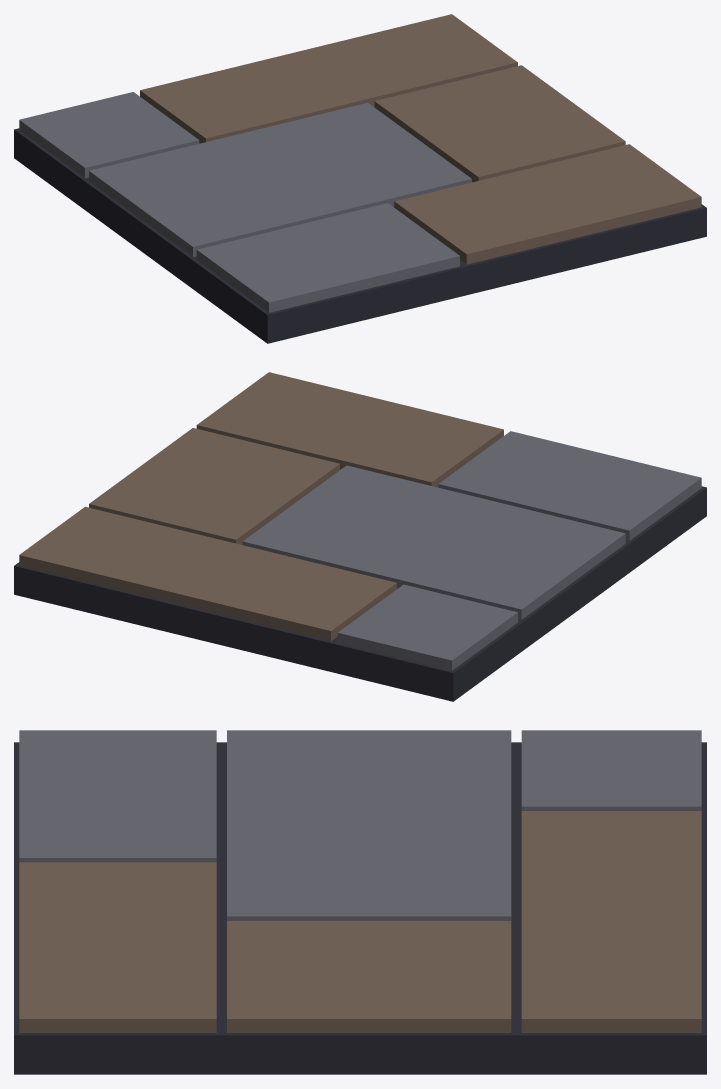
File: floor_flagstone_slabs.fbx
3 renders of one model, top to bottom at view 1: azimuth 30°, elevation 25°; view 2: azimuth 150°, elevation 25°; view 3: azimuth 270°, elevation 25°, orthographic. The views are drawn at different scales.
Parts seen in each view (by area): view 1: floor_flagstone_slabs; view 2: floor_flagstone_slabs; view 3: floor_flagstone_slabs.
Boxes of the visible parts, x1,y1,x2,y2 form: floor_flagstone_slabs: (14,14,706,343); floor_flagstone_slabs: (14,372,706,701); floor_flagstone_slabs: (14,730,706,1074).
Bounding box in the file's own units: 4 × 0.34 × 4.
